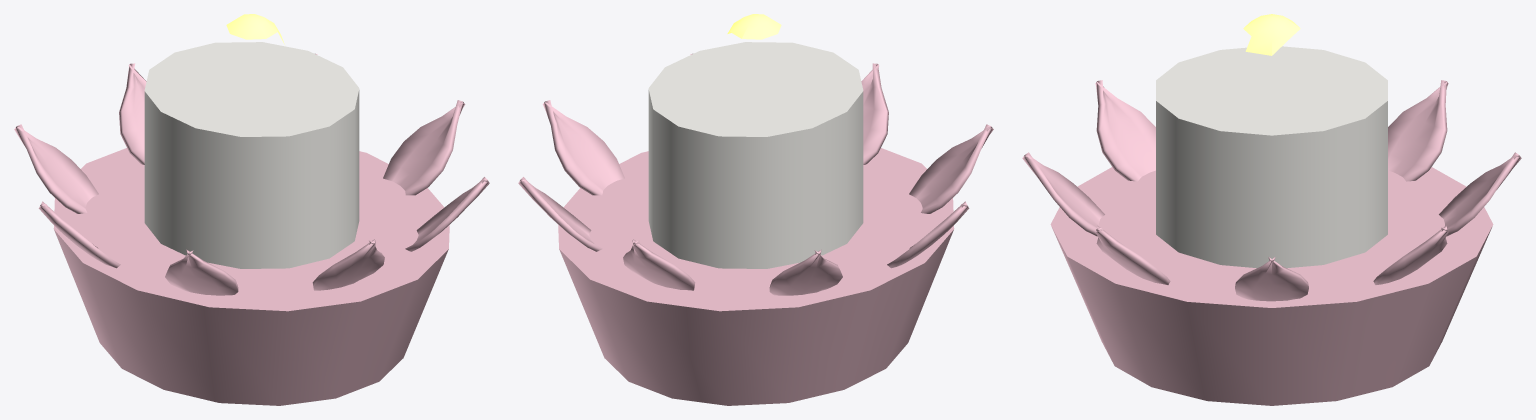
The model's file is nen_hoa_sen.glb.
3 renders of one model, left to right at view 1: azimuth 30°, elevation 25°; view 2: azimuth 150°, elevation 25°; view 3: azimuth 270°, elevation 25°, orthographic.
Visible parts, largest first — view 1: nen_hoa_sen.001, nen_petal_0, nen_petal_3, nen_petal_5, nen_petal_2, nen_petal_6, nen_petal_7, nen_petal_4; view 2: nen_hoa_sen.001, nen_petal_0, nen_petal_5, nen_petal_3, nen_petal_6, nen_petal_2, nen_petal_1, nen_petal_4; view 3: nen_hoa_sen.001, nen_petal_5, nen_petal_3, nen_petal_0, nen_petal_6, nen_petal_2, nen_petal_1, nen_petal_7.
Part boxes in pixels (x1=…): nen_hoa_sen.001: x1=53, y1=14, x2=449, y2=405; nen_petal_0: x1=383, y1=100, x2=465, y2=195; nen_petal_3: x1=14, y1=124, x2=98, y2=213; nen_petal_5: x1=165, y1=249, x2=238, y2=295; nen_petal_2: x1=119, y1=63, x2=146, y2=164; nen_petal_6: x1=312, y1=239, x2=384, y2=290; nen_petal_7: x1=405, y1=177, x2=489, y2=251; nen_petal_4: x1=38, y1=201, x2=120, y2=268; nen_hoa_sen.001: x1=558, y1=14, x2=954, y2=405; nen_petal_0: x1=542, y1=100, x2=624, y2=195; nen_petal_5: x1=909, y1=124, x2=993, y2=213; nen_petal_3: x1=769, y1=249, x2=842, y2=295; nen_petal_6: x1=861, y1=63, x2=888, y2=164; nen_petal_2: x1=623, y1=239, x2=695, y2=290; nen_petal_1: x1=518, y1=177, x2=602, y2=251; nen_petal_4: x1=887, y1=201, x2=969, y2=268; nen_hoa_sen.001: x1=1050, y1=14, x2=1493, y2=405; nen_petal_5: x1=1095, y1=80, x2=1155, y2=181; nen_petal_3: x1=1388, y1=80, x2=1448, y2=181; nen_petal_0: x1=1235, y1=257, x2=1308, y2=301; nen_petal_6: x1=1022, y1=152, x2=1104, y2=236; nen_petal_2: x1=1439, y1=152, x2=1521, y2=236; nen_petal_1: x1=1373, y1=225, x2=1448, y2=284; nen_petal_7: x1=1095, y1=225, x2=1170, y2=284.
Bounding box in the file's own units: 0.1394 × 0.0999 × 0.1394.
